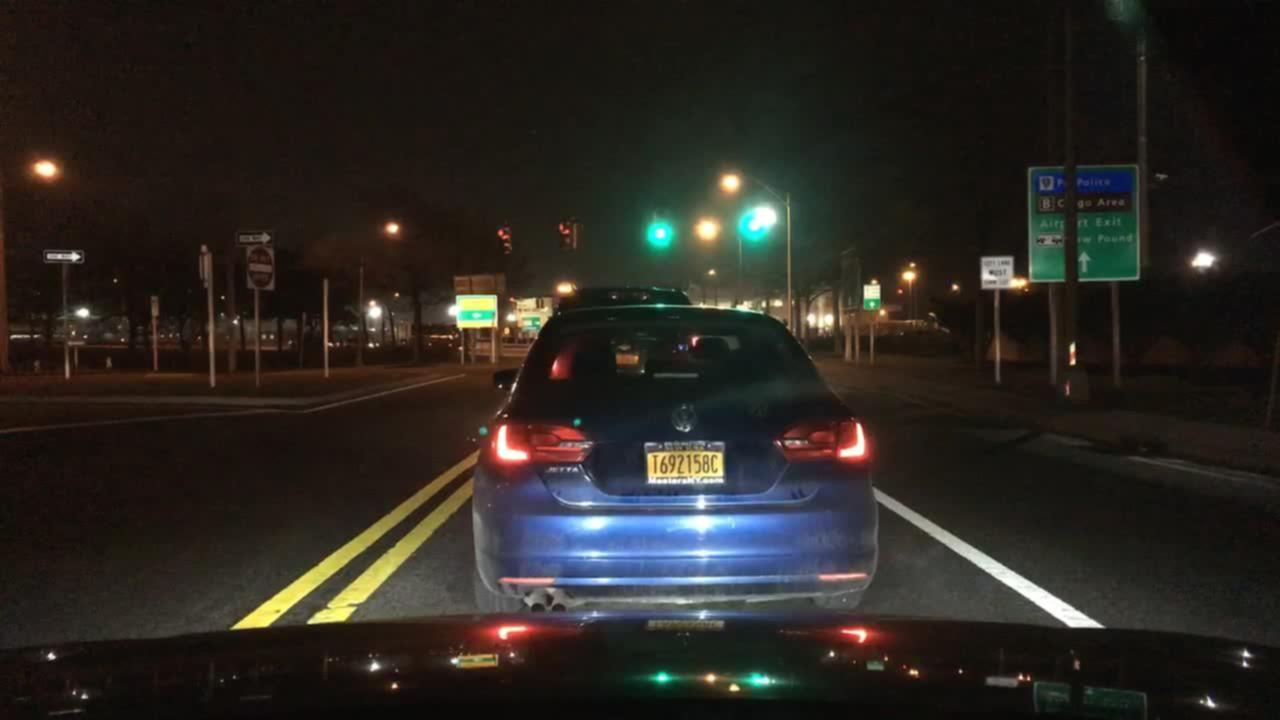Volkswagen: (663, 390, 713, 450)
